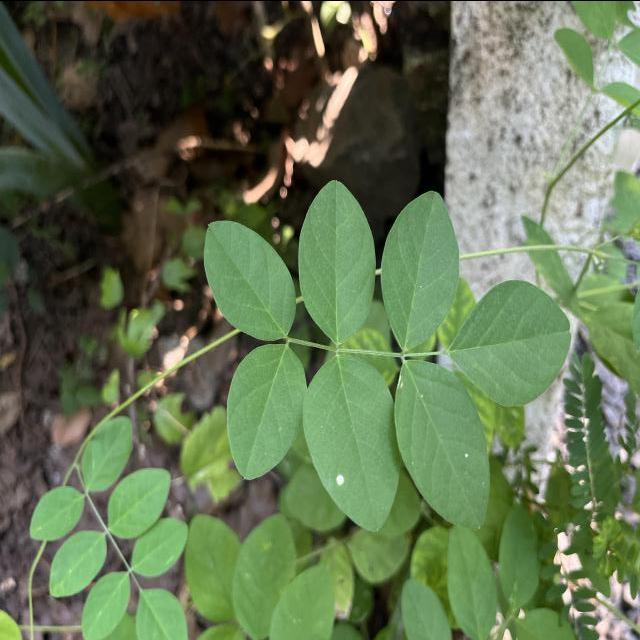Clitoria ternatea: (300, 352, 402, 532), (393, 357, 493, 530), (448, 278, 572, 408), (296, 178, 378, 346), (379, 188, 461, 350), (226, 340, 309, 480), (202, 218, 296, 340)
